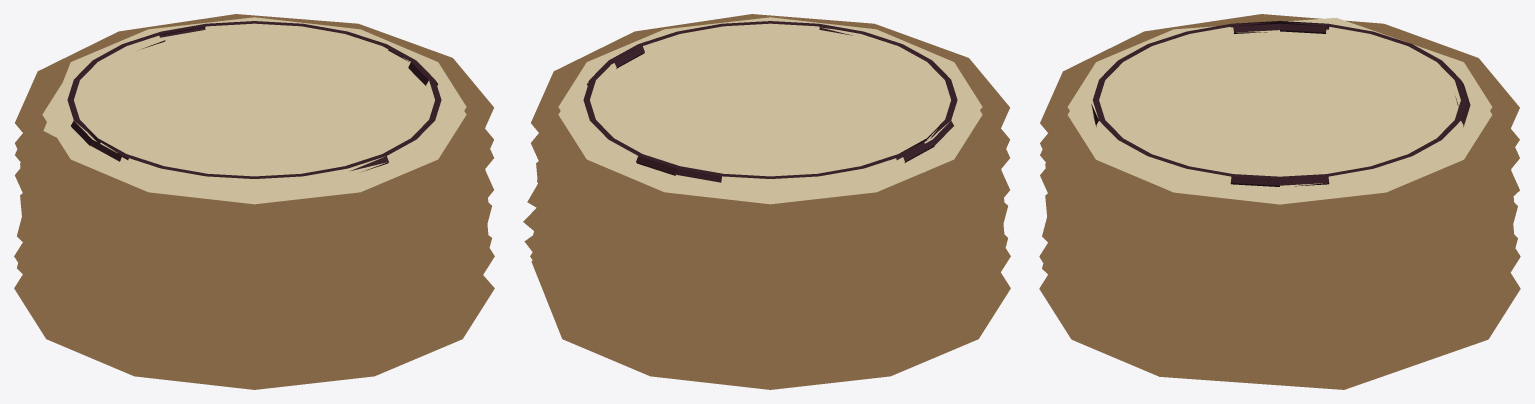
The model's file is CoasterStack.glb.
The picture shows the model from 3 angles, left to right: view 1: azimuth 30°, elevation 25°; view 2: azimuth 150°, elevation 25°; view 3: azimuth 270°, elevation 25°; orthographic projection.
Parts seen in each view (by area): view 1: IvoryTop, CorkCoaster.004, CorkCoaster.003, CorkCoaster, CorkCoaster.001, CorkCoaster.002, CoasterRim; view 2: IvoryTop, CorkCoaster.004, CorkCoaster.003, CorkCoaster, CorkCoaster.001, CorkCoaster.002, CoasterRim; view 3: IvoryTop, CorkCoaster.004, CorkCoaster, CorkCoaster.003, CorkCoaster.001, CorkCoaster.002, CoasterRim.
Part boxes in pixels (<box>): IvoryTop: <box>42,17,466,204</box>; CorkCoaster.004: <box>15,14,493,248</box>; CorkCoaster.003: <box>15,133,493,283</box>; CorkCoaster: <box>14,242,494,389</box>; CorkCoaster.001: <box>17,202,491,353</box>; CorkCoaster.002: <box>20,163,488,316</box>; CoasterRim: <box>67,21,441,178</box>; IvoryTop: <box>558,17,982,204</box>; CorkCoaster.004: <box>531,14,1009,248</box>; CorkCoaster.003: <box>527,133,1009,283</box>; CorkCoaster: <box>530,248,1010,389</box>; CorkCoaster.001: <box>524,202,1007,353</box>; CorkCoaster.002: <box>523,161,1004,316</box>; CoasterRim: <box>583,21,957,182</box>; IvoryTop: <box>1067,17,1492,204</box>; CorkCoaster.004: <box>1040,14,1519,248</box>; CorkCoaster: <box>1039,243,1520,389</box>; CorkCoaster.003: <box>1040,133,1519,284</box>; CorkCoaster.001: <box>1042,203,1517,349</box>; CorkCoaster.002: <box>1045,163,1514,317</box>; CoasterRim: <box>1091,21,1470,186</box>.
Size of the model in its own units: 0.68 by 0.2938 by 0.68.
